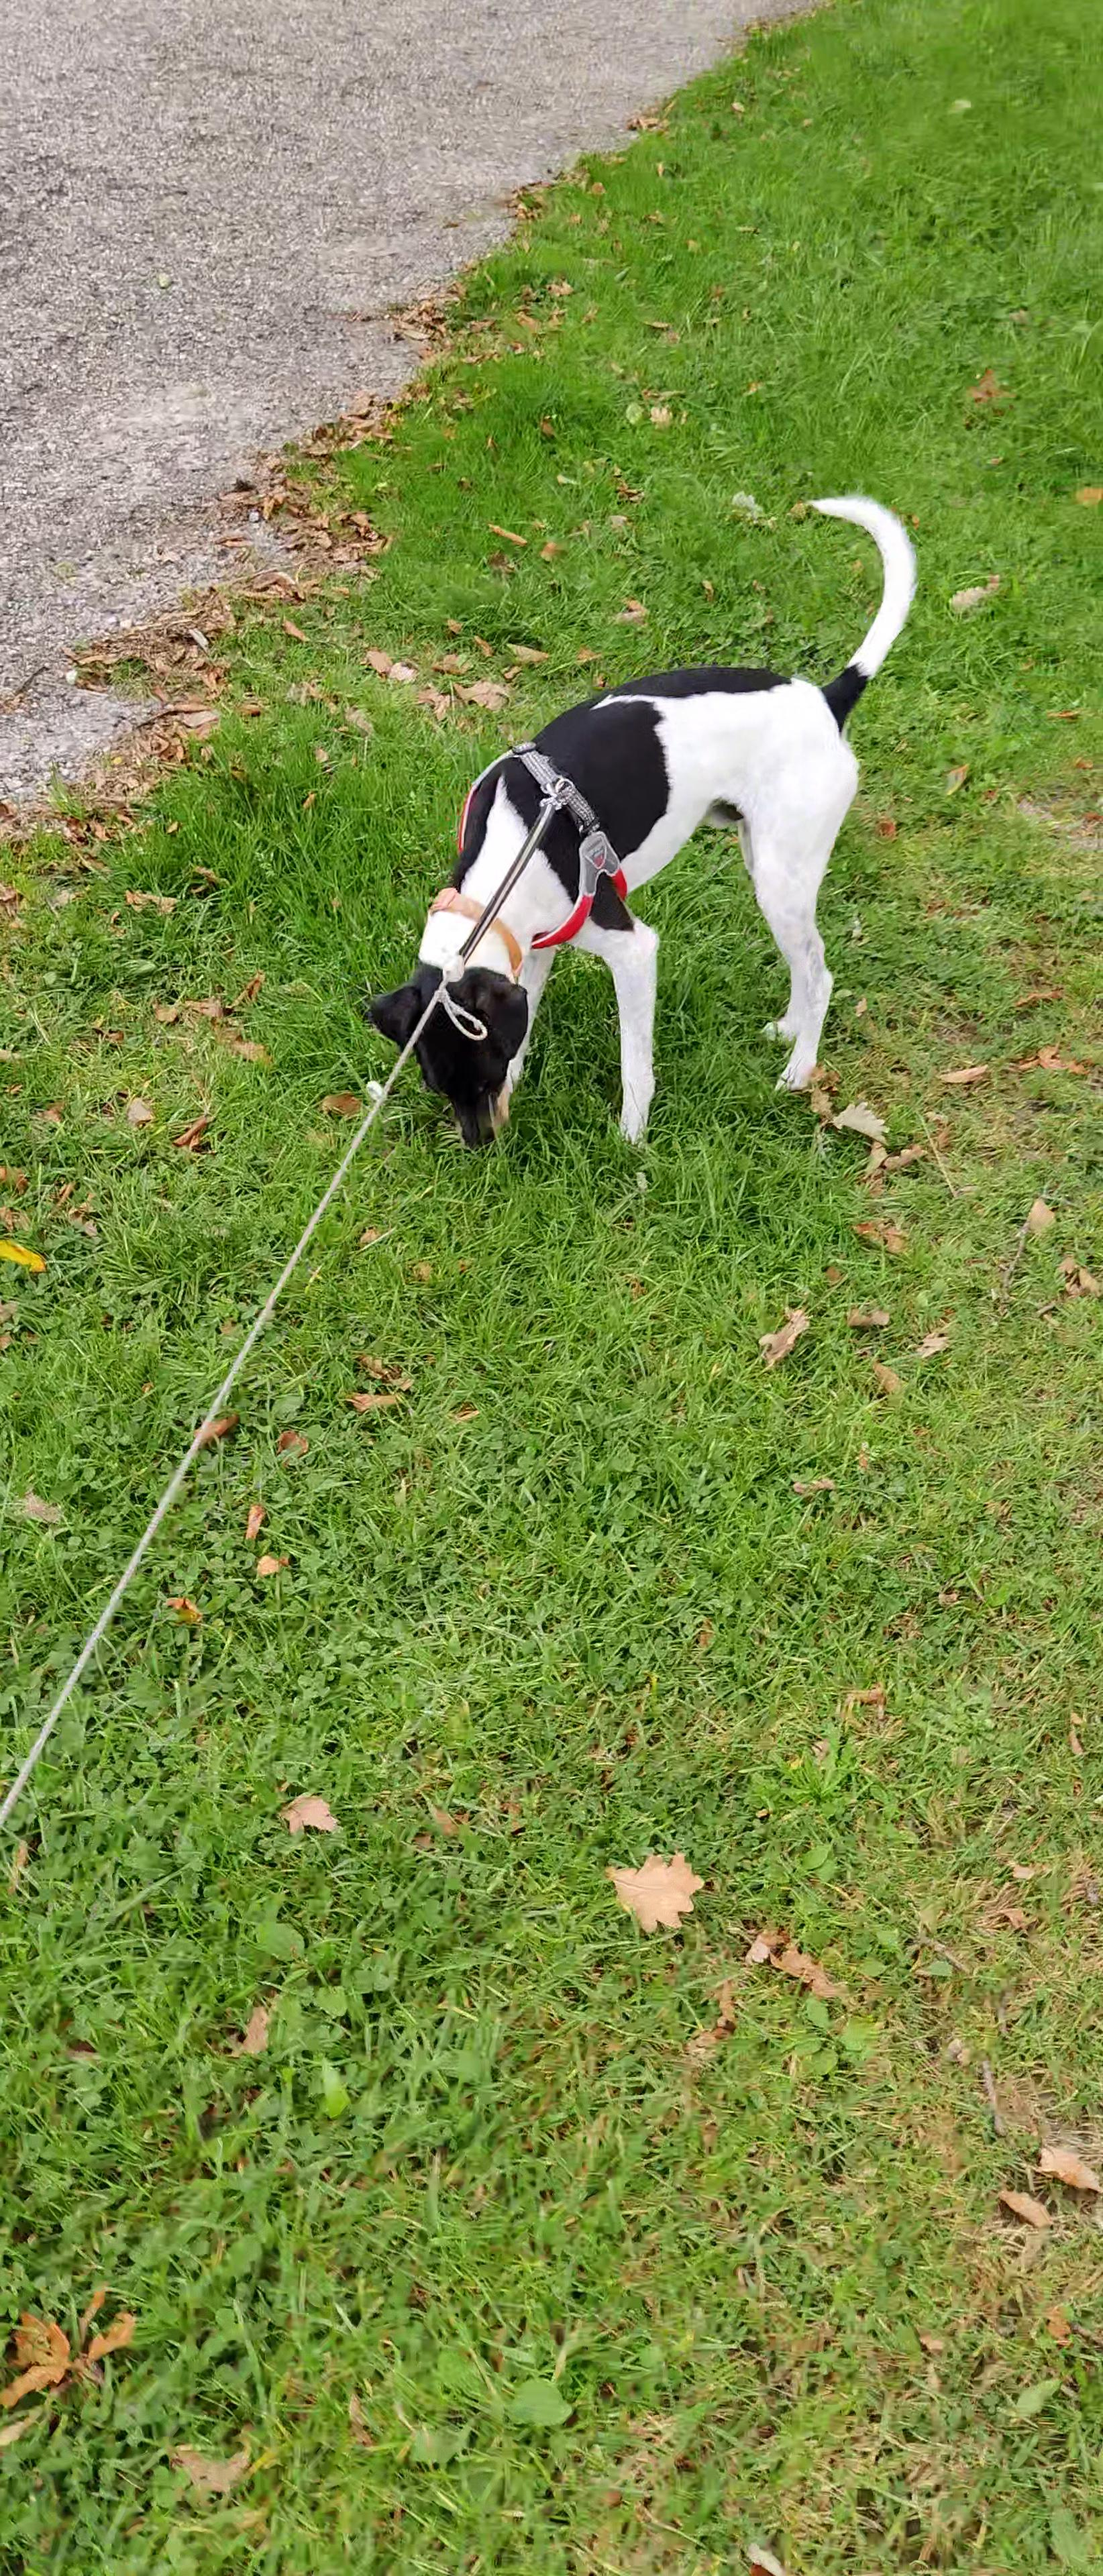Dog: (362, 490, 930, 1150)
